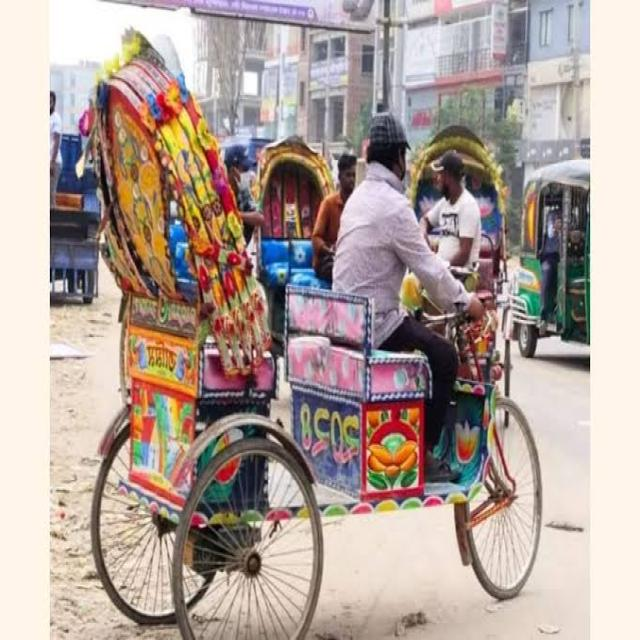CNG: (502, 127, 635, 385)
Rickshaw: (59, 16, 587, 640), (391, 78, 517, 510), (244, 85, 374, 483)
